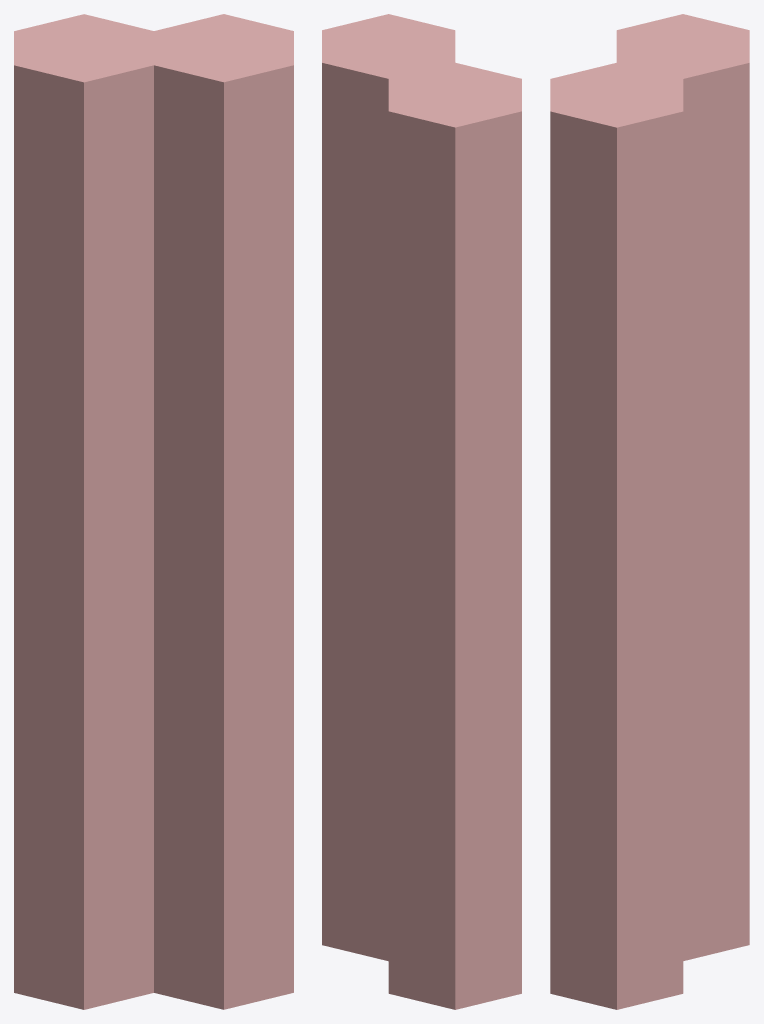
The model's file is level04_fallBridgeBlockBoat_01.fbx.
The picture shows the model from 3 angles, left to right: view 1: azimuth 30°, elevation 25°; view 2: azimuth 150°, elevation 25°; view 3: azimuth 270°, elevation 25°; orthographic projection. The views are drawn at different scales.
Parts seen in each view (by area): view 1: level04_fallBridgeBlockBoat_01; view 2: level04_fallBridgeBlockBoat_01; view 3: level04_fallBridgeBlockBoat_01.
Part boxes in pixels (<box>): level04_fallBridgeBlockBoat_01: <box>14,14,293,1009</box>; level04_fallBridgeBlockBoat_01: <box>322,14,521,1009</box>; level04_fallBridgeBlockBoat_01: <box>550,14,749,1009</box>.
Bounding box in the file's own units: 414 × 1498 × 307.
